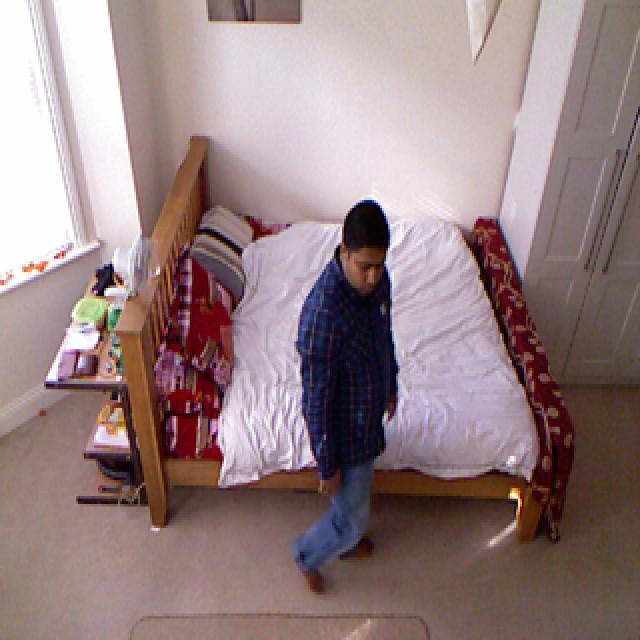standing: (292, 206, 399, 585)
